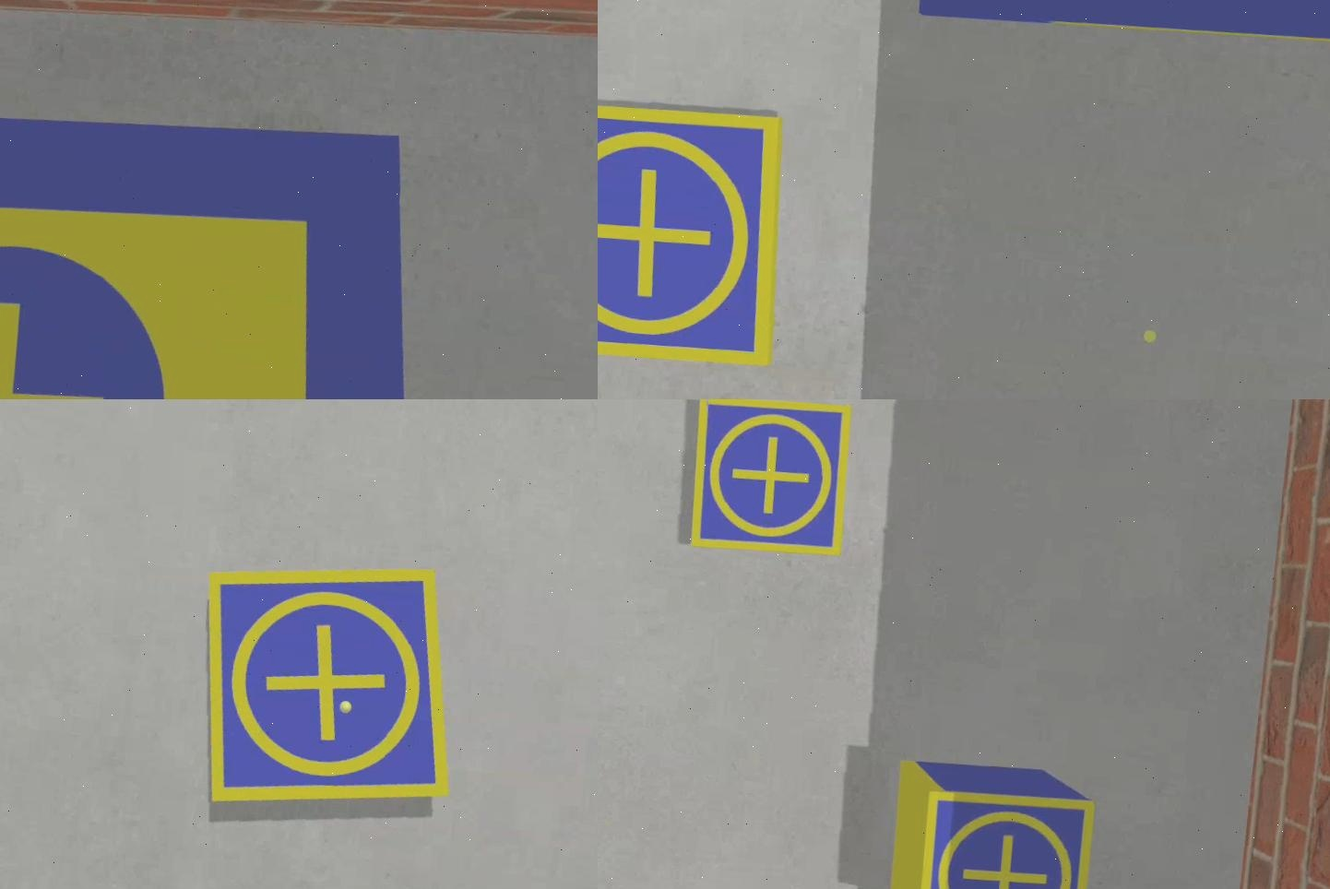large_base: (1, 65, 438, 400)
small_base: (189, 551, 475, 831), (598, 89, 790, 373), (684, 400, 857, 558), (909, 784, 1094, 889)
